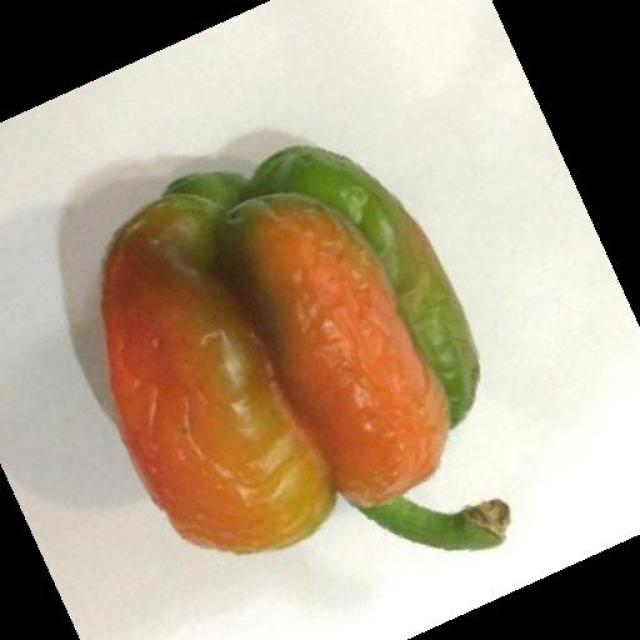Stale_Capsicum: (134, 140, 456, 562)
